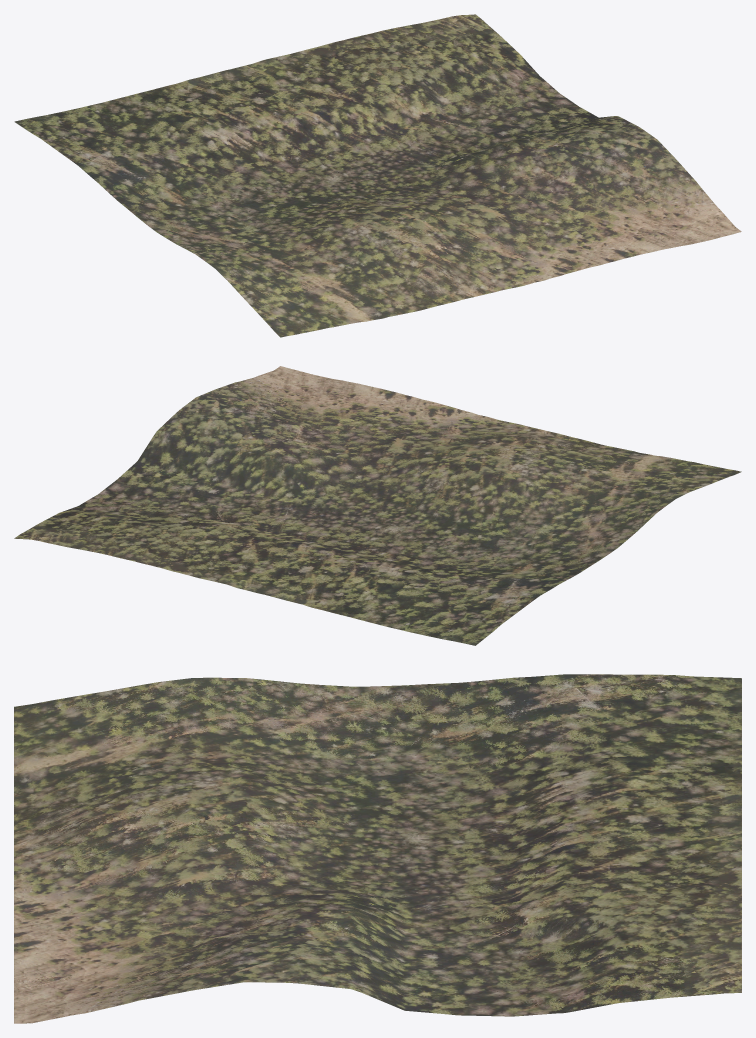
Rendered from CM_Terrain_24493530_6816312.fbx.
3 views of the same model, one above another, from view 1: azimuth 30°, elevation 25°; view 2: azimuth 150°, elevation 25°; view 3: azimuth 270°, elevation 25° (orthographic). The views are drawn at different scales.
Visible parts, largest first — view 1: CM_Terrain_24493530_6816312_LOD0; view 2: CM_Terrain_24493530_6816312_LOD0; view 3: CM_Terrain_24493530_6816312_LOD0.
Part boxes in pixels (left/top/right/bottom): CM_Terrain_24493530_6816312_LOD0: left=14, top=14, right=741, bottom=337; CM_Terrain_24493530_6816312_LOD0: left=14, top=366, right=741, bottom=645; CM_Terrain_24493530_6816312_LOD0: left=14, top=674, right=741, bottom=1023.
Size of what is drawn, in the model's own units: 205 by 13.63 by 205.
